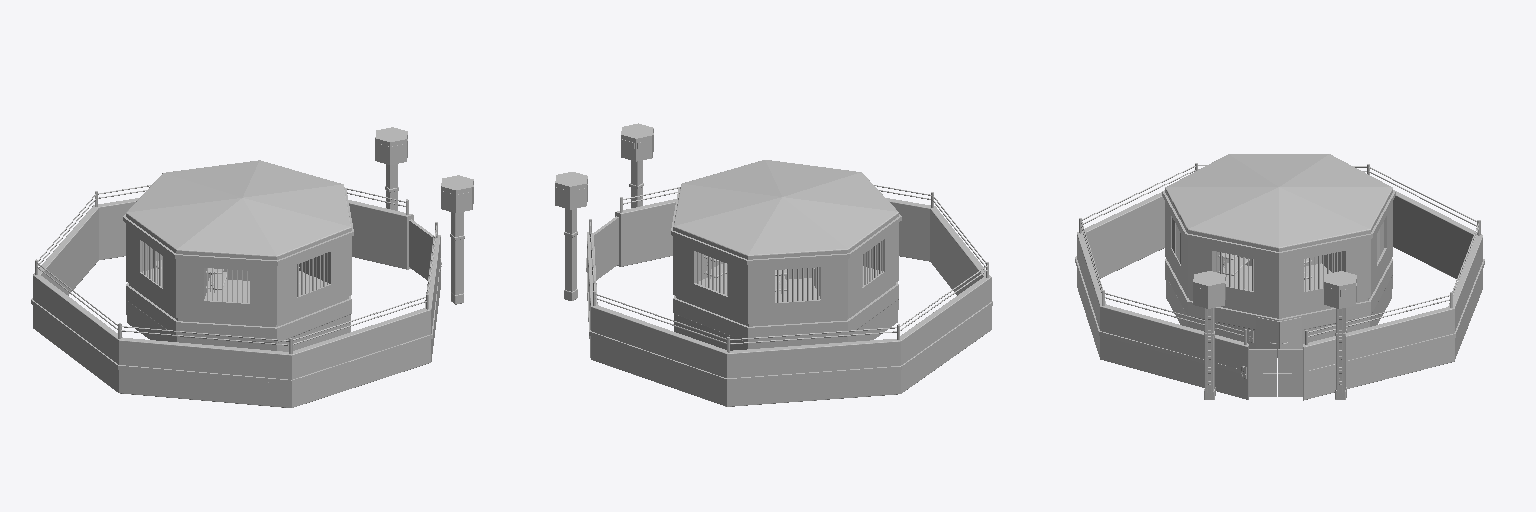
File: CUPIC_JAIL.obj
3 renders of one model, left to right at view 1: azimuth 30°, elevation 25°; view 2: azimuth 150°, elevation 25°; view 3: azimuth 270°, elevation 25°, orthographic.
Bounding box in the file's own units: 2081 × 678 × 2033.